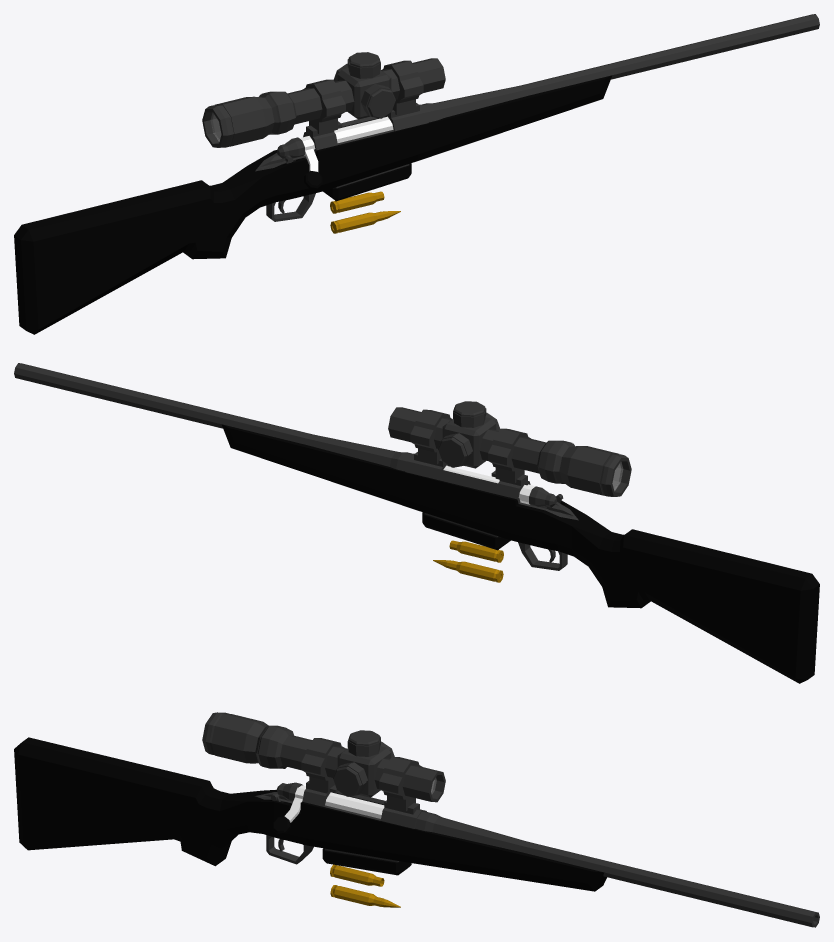
Rendered from remington_700.glb.
The picture shows the model from 3 angles, top to bottom: view 1: azimuth 30°, elevation 25°; view 2: azimuth 150°, elevation 25°; view 3: azimuth 330°, elevation 25°; orthographic projection.
Visible parts, largest first — view 1: Cube_2, Cylinder.004_6, Cylinder.001_3, 7.62x51 mag.002_1, Object_4; view 2: Cube_2, Cylinder.004_6, Cylinder.001_3, 7.62x51 mag.002_1, Object_4; view 3: Cube_2, Cylinder.004_6, Cylinder.001_3, 7.62x51 mag.002_1, Object_4.
Boxes of the visible parts, <box> form: Cube_2: <box>14,14,819,334</box>; Cylinder.004_6: <box>202,52,445,147</box>; Cylinder.001_3: <box>277,116,393,189</box>; 7.62x51 mag.002_1: <box>330,211,400,233</box>; Object_4: <box>330,191,384,213</box>; Cube_2: <box>14,363,819,683</box>; Cylinder.004_6: <box>388,401,631,496</box>; Cylinder.001_3: <box>443,465,556,508</box>; 7.62x51 mag.002_1: <box>433,560,503,582</box>; Object_4: <box>449,540,503,562</box>; Cube_2: <box>14,737,819,927</box>; Cylinder.004_6: <box>202,712,445,811</box>; Cylinder.001_3: <box>272,782,384,834</box>; 7.62x51 mag.002_1: <box>330,885,400,907</box>; Object_4: <box>330,864,384,886</box>.
Size of the model in its own units: 8.3 by 1.92 by 0.6883.
